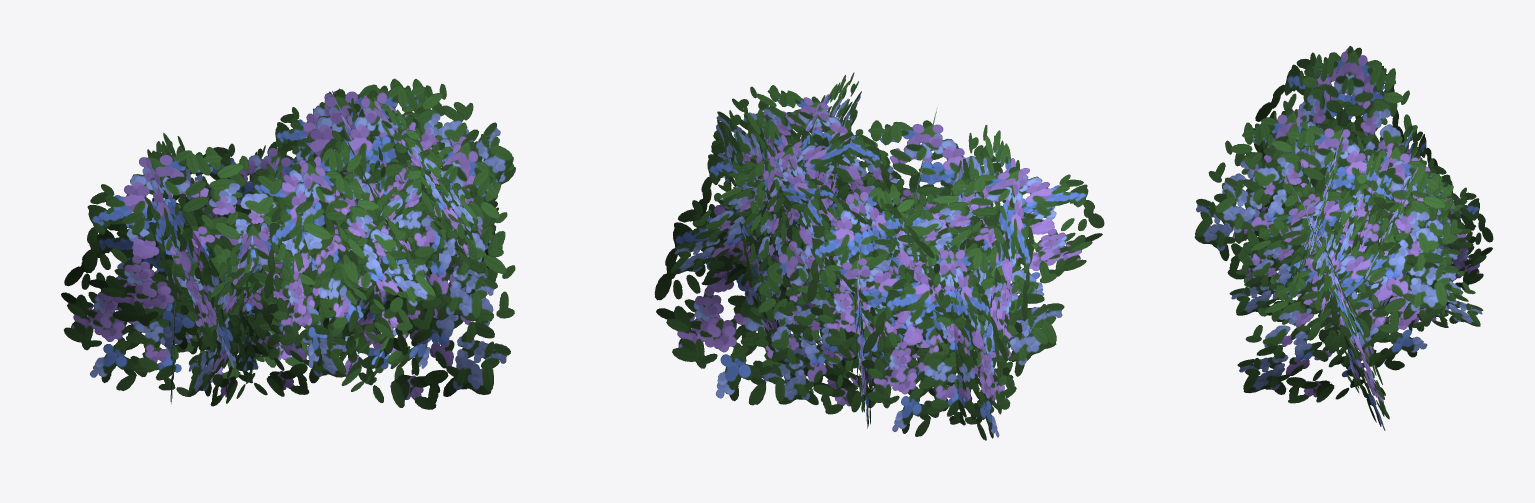
Rendered from CITY_Hortensia_Azul.fbx.
3 views of the same model, side by side, from view 1: azimuth 30°, elevation 25°; view 2: azimuth 150°, elevation 25°; view 3: azimuth 270°, elevation 25° (orthographic). The views are drawn at different scales.
Visible parts, largest first — view 1: CITY_Hortensia_Azul; view 2: CITY_Hortensia_Azul; view 3: CITY_Hortensia_Azul.
Part boxes in pixels (<box>): CITY_Hortensia_Azul: <box>61,78,515,409</box>; CITY_Hortensia_Azul: <box>654,72,1104,440</box>; CITY_Hortensia_Azul: <box>1194,46,1493,430</box>.
Bounding box in the file's own units: 2.19 × 1.77 × 1.47.
